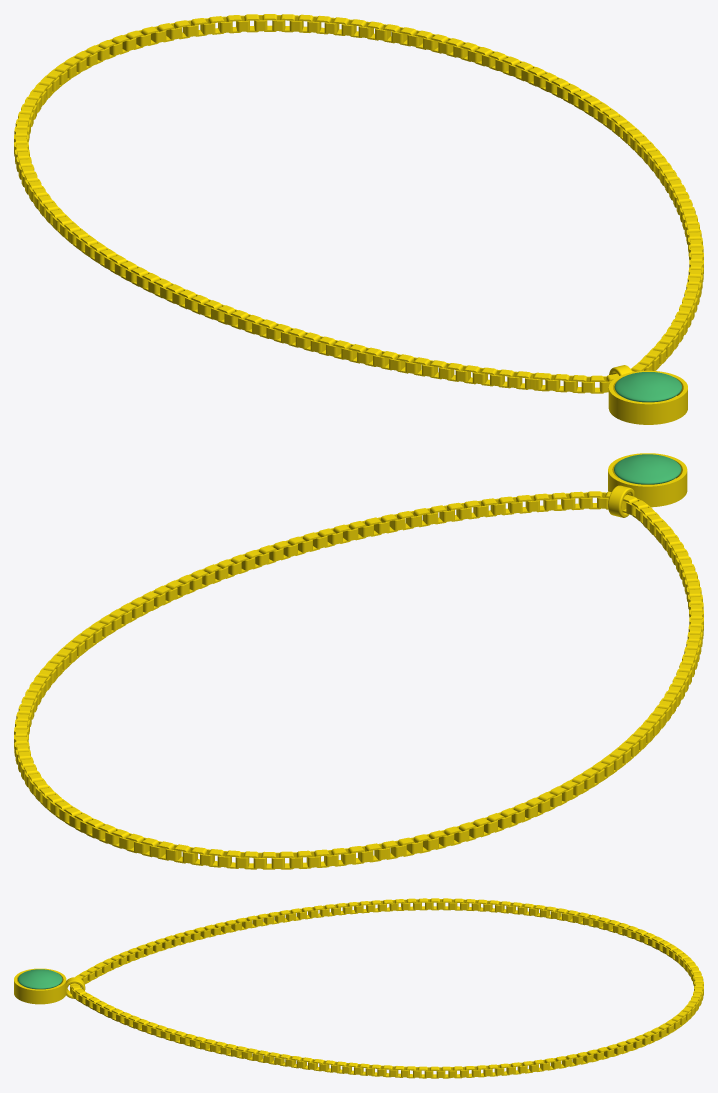
File: pendant-circle.glb
The picture shows the model from 3 angles, top to bottom: view 1: azimuth 30°, elevation 25°; view 2: azimuth 150°, elevation 25°; view 3: azimuth 270°, elevation 25°; orthographic projection. The views are drawn at different scales.
Size of the model in its own units: 0.0778 by 0.00497 by 0.1316.
